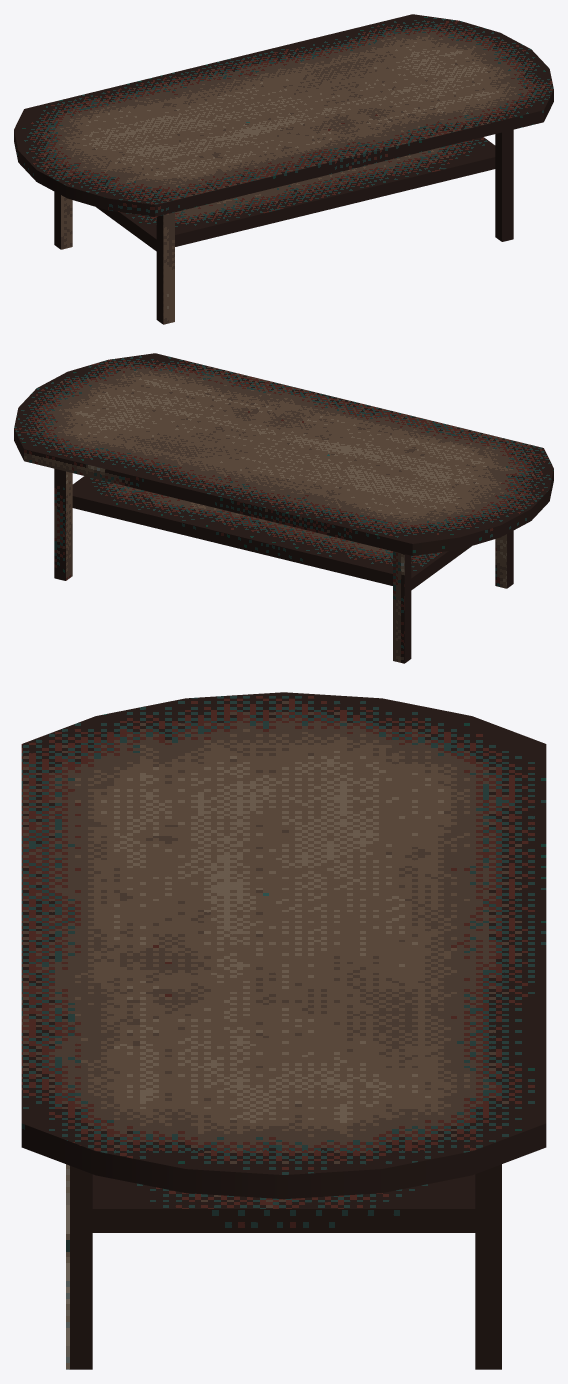
Rendered from sofa-table.glb.
3 renders of one model, top to bottom at view 1: azimuth 30°, elevation 25°; view 2: azimuth 150°, elevation 25°; view 3: azimuth 270°, elevation 25°, orthographic. The views are drawn at different scales.
Parts seen in each view (by area): view 1: sofa-table-col; view 2: sofa-table-col; view 3: sofa-table-col.
Part boxes in pixels (left/top/right/bottom): sofa-table-col: left=14, top=14, right=553, bottom=324; sofa-table-col: left=14, top=353, right=553, bottom=663; sofa-table-col: left=21, top=692, right=546, bottom=1369.
Bounding box in the file's own units: 1.29 × 0.33 × 0.592.
1 material, 1 textured.
